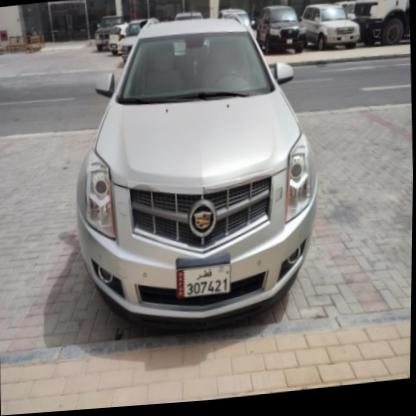np: (174, 259, 234, 304)
